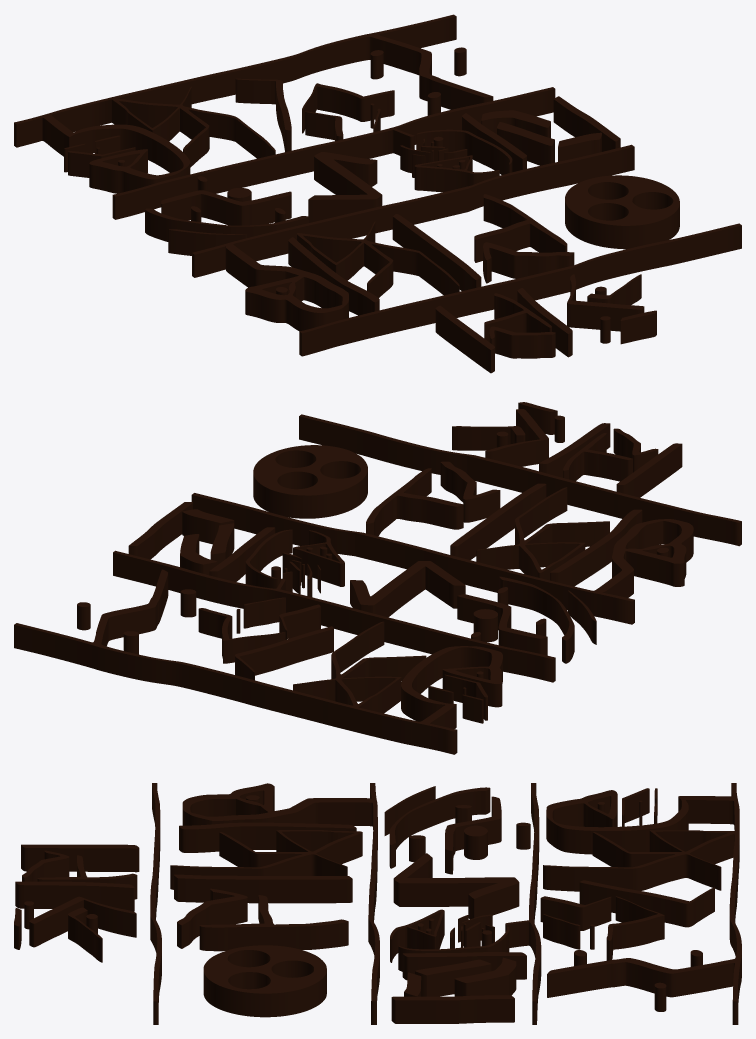
The picture shows the model from 3 angles, top to bottom: view 1: azimuth 30°, elevation 25°; view 2: azimuth 150°, elevation 25°; view 3: azimuth 270°, elevation 25°; orthographic projection.
Visible parts, largest first — view 1: path237; view 2: path237; view 3: path237.
Part boxes in pixels (bbox=[...]): path237: bbox=[14, 14, 741, 373]; path237: bbox=[14, 402, 741, 754]; path237: bbox=[14, 783, 741, 1024].
Bounding box in the file's own units: 19.81 × 1 × 27.92.
